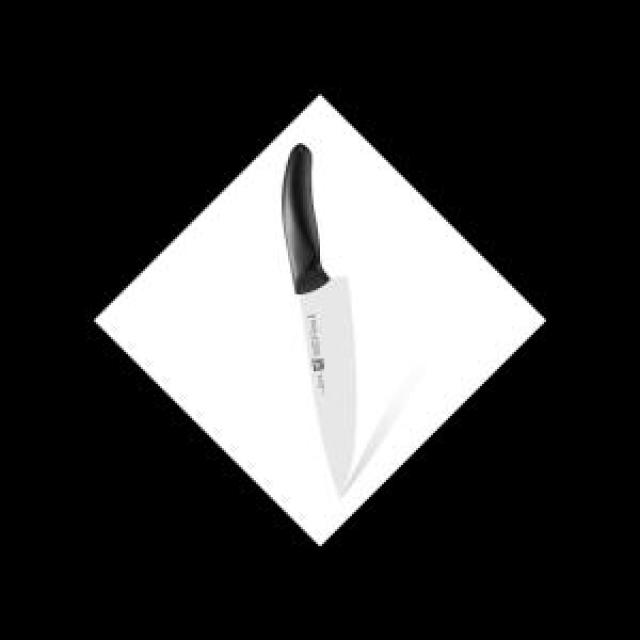knife: (282, 137, 358, 508)
